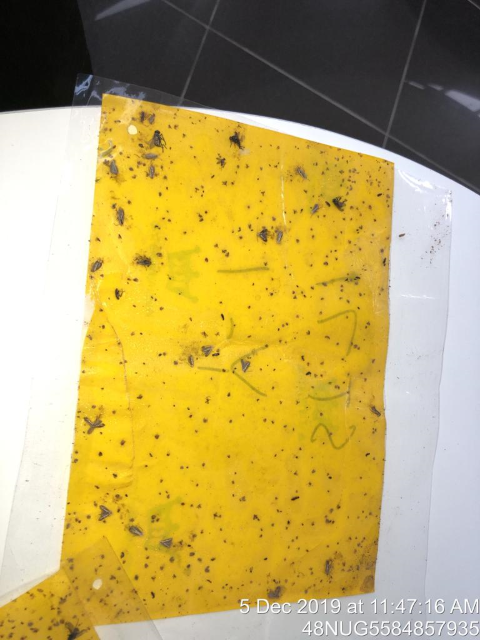DBM: (81, 414, 107, 435), (95, 501, 115, 524), (255, 226, 275, 244), (126, 522, 145, 538), (88, 258, 104, 276), (144, 162, 159, 181), (265, 585, 282, 601), (368, 402, 383, 420), (115, 206, 127, 228), (293, 165, 310, 180), (159, 536, 174, 551), (309, 202, 322, 219), (108, 158, 120, 176), (239, 357, 252, 373), (201, 345, 214, 359), (141, 153, 163, 161), (186, 352, 197, 368), (322, 559, 332, 576), (275, 230, 284, 245)
